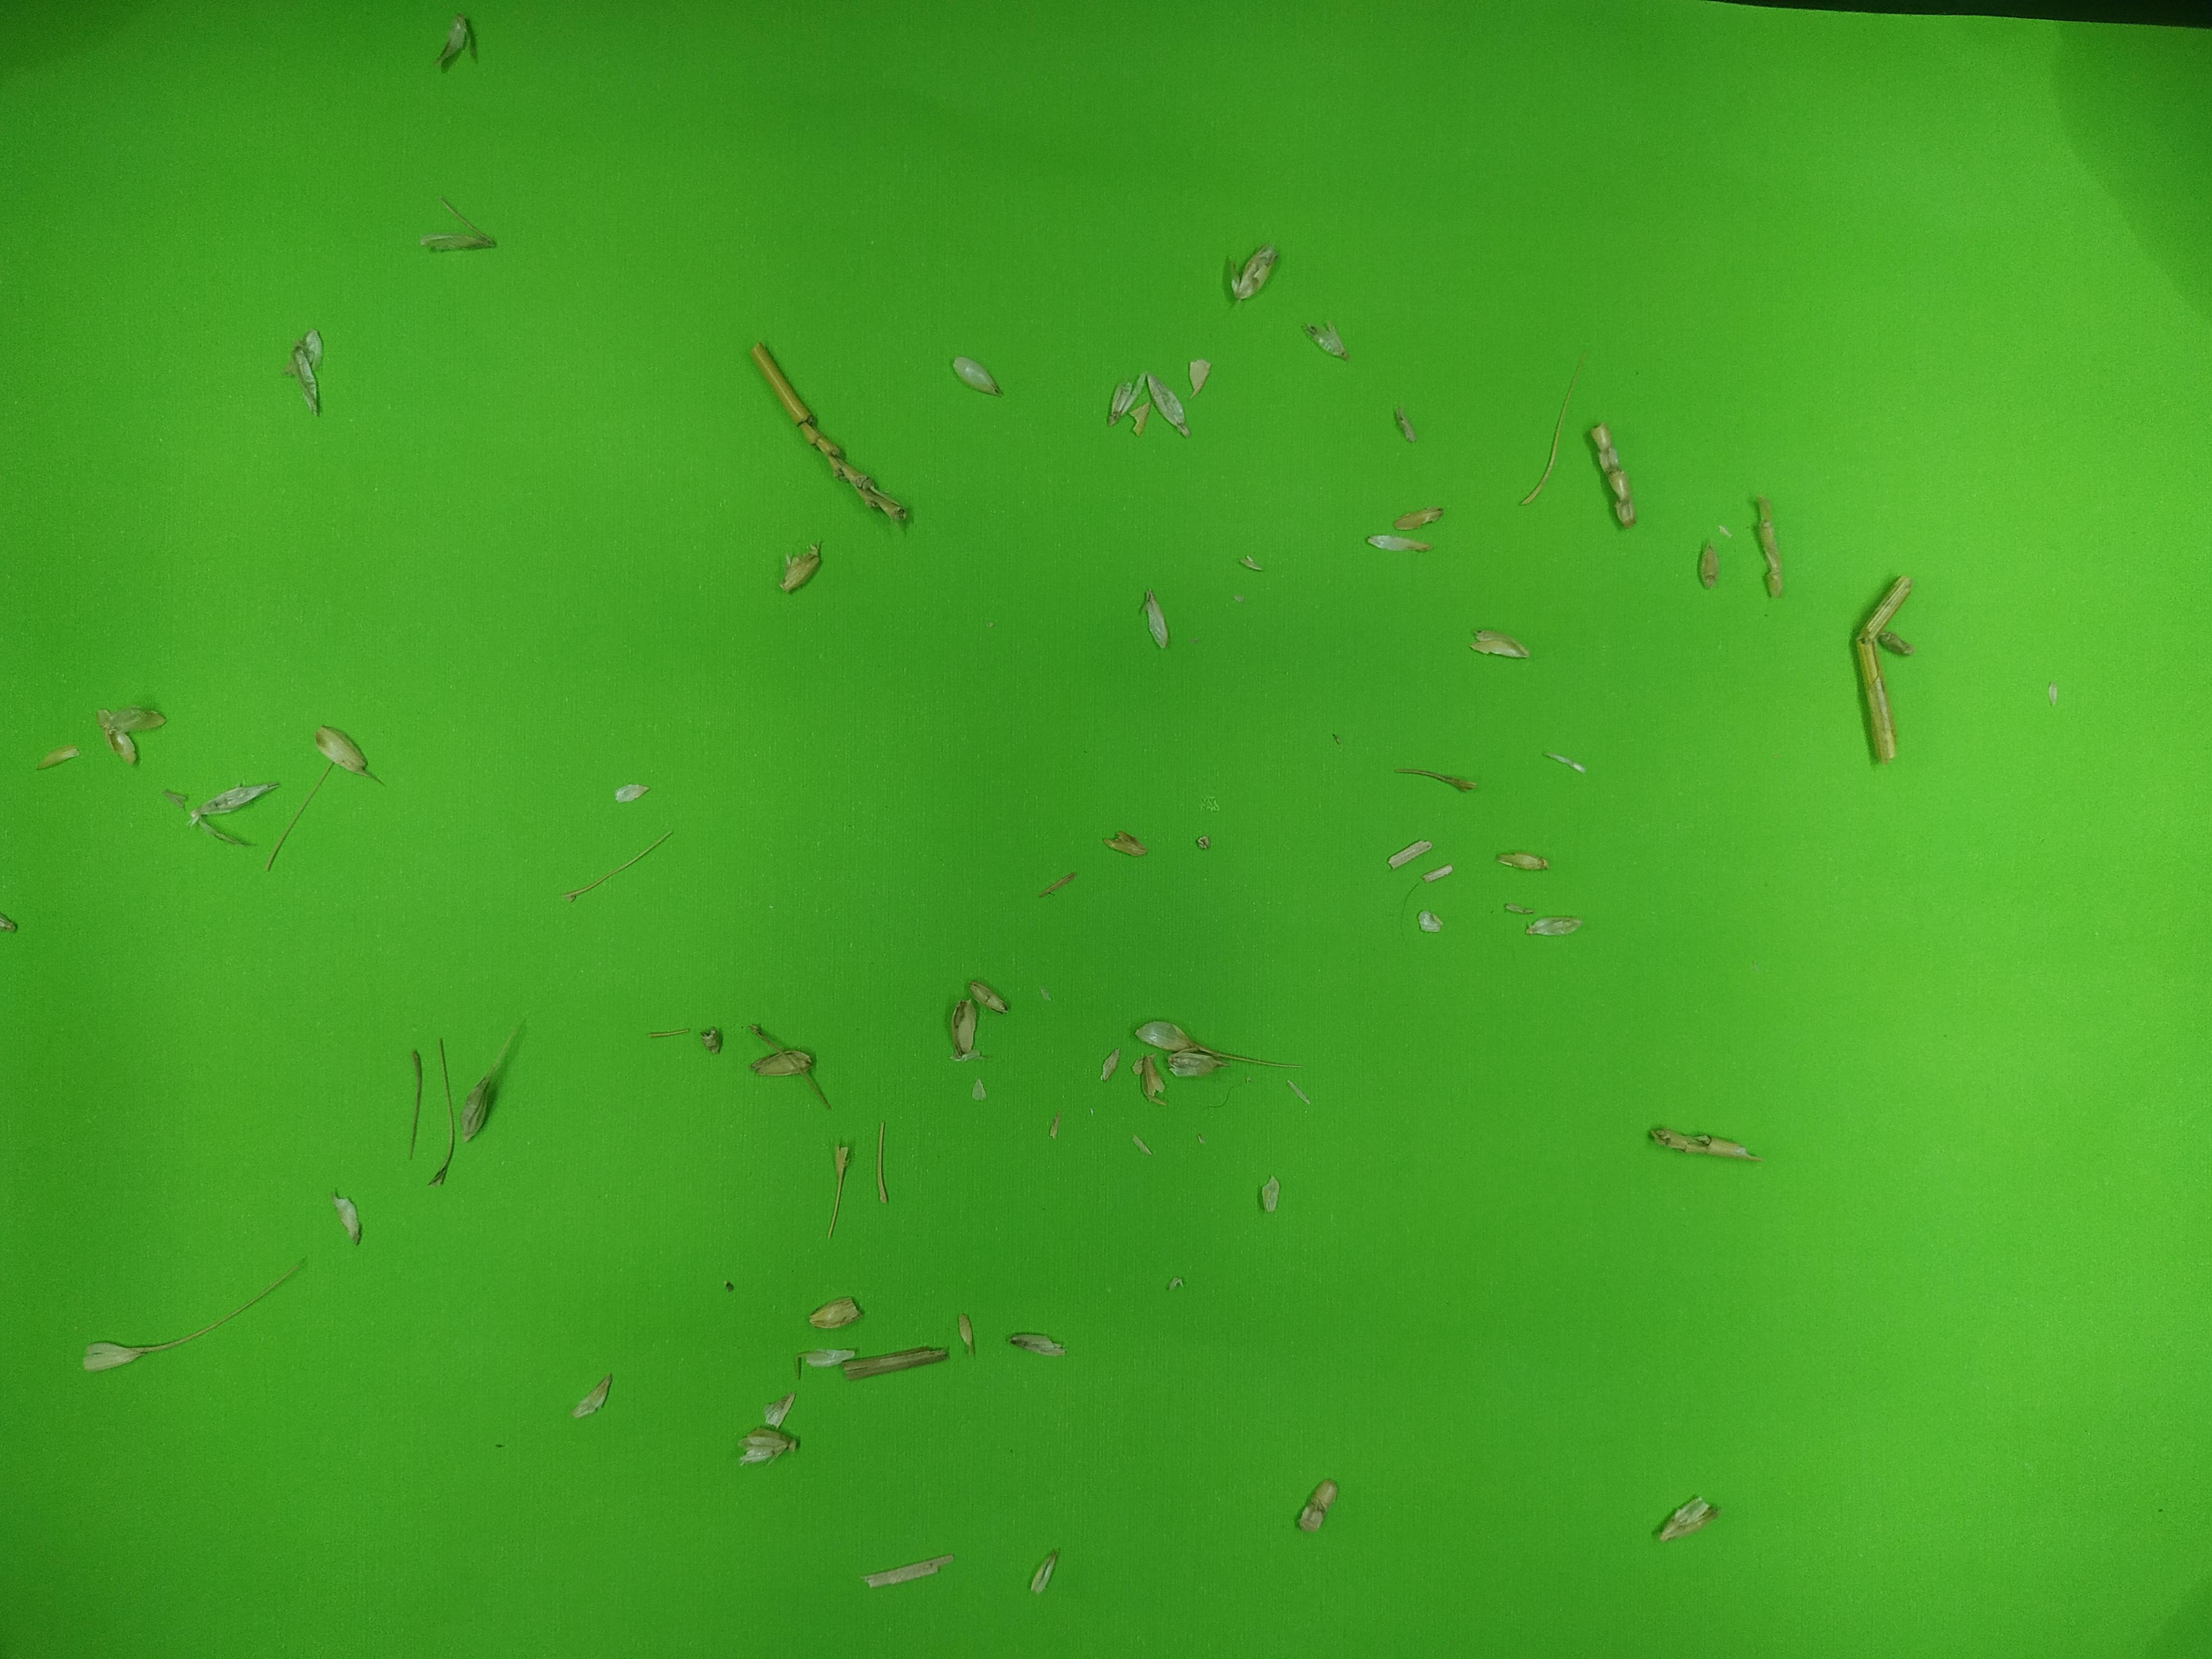impureza: (749, 340, 909, 521), (82, 1253, 308, 1370), (1846, 566, 1914, 765), (1517, 347, 1581, 504), (1134, 1016, 1305, 1068), (561, 824, 672, 901), (744, 1023, 831, 1108), (268, 760, 331, 870), (1588, 420, 1641, 530), (416, 190, 500, 258), (428, 1033, 462, 1188), (312, 721, 387, 789), (275, 324, 327, 416), (840, 1344, 951, 1384), (1642, 1122, 1761, 1159), (860, 1549, 960, 1591), (813, 1136, 852, 1244), (1221, 242, 1277, 312), (190, 777, 284, 816), (732, 1424, 806, 1471), (1750, 490, 1782, 599), (866, 1114, 902, 1201), (404, 1042, 428, 1164), (434, 9, 481, 71), (775, 544, 831, 596), (1463, 622, 1531, 664), (1148, 371, 1191, 436), (1106, 368, 1148, 434), (1137, 584, 1176, 655), (462, 1073, 500, 1145), (1298, 1476, 1345, 1532), (96, 706, 136, 770), (188, 809, 253, 847), (949, 354, 1003, 399), (1656, 1500, 1717, 1541), (1395, 765, 1479, 793), (1165, 1051, 1228, 1086), (789, 1345, 862, 1375), (949, 995, 982, 1060), (573, 1370, 618, 1417), (808, 1295, 866, 1331), (1308, 314, 1348, 362), (329, 1187, 362, 1244), (763, 1384, 803, 1431), (1024, 1551, 1059, 1605), (1008, 1323, 1062, 1356), (1385, 836, 1433, 873), (1386, 396, 1418, 451), (1364, 528, 1433, 552), (1498, 842, 1547, 875), (1393, 504, 1446, 533), (38, 739, 84, 772), (968, 976, 1007, 1014), (1524, 913, 1588, 936), (108, 708, 167, 732), (1103, 830, 1150, 859), (1695, 535, 1719, 591), (954, 1307, 981, 1358), (1258, 1169, 1284, 1218), (1228, 549, 1268, 579), (1186, 359, 1214, 397), (1418, 859, 1458, 885), (1545, 751, 1585, 775), (611, 779, 651, 803), (695, 1021, 723, 1056), (1094, 1046, 1120, 1082), (1413, 911, 1447, 936), (1498, 901, 1538, 918), (646, 1025, 690, 1039)
